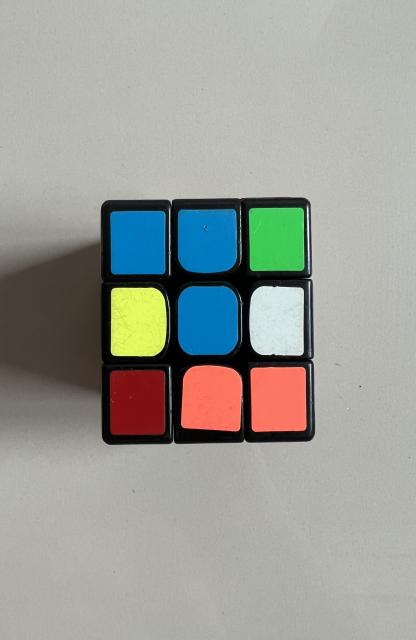Blue: (178, 286, 238, 355), (178, 209, 237, 272), (110, 211, 166, 275)
Green: (249, 208, 304, 271)
Orange: (181, 365, 243, 431), (250, 368, 307, 432)
Red: (109, 370, 166, 435)
White: (249, 286, 304, 355)
Yellow: (110, 288, 167, 356)
